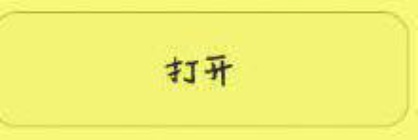Button: (1, 1, 417, 139)
